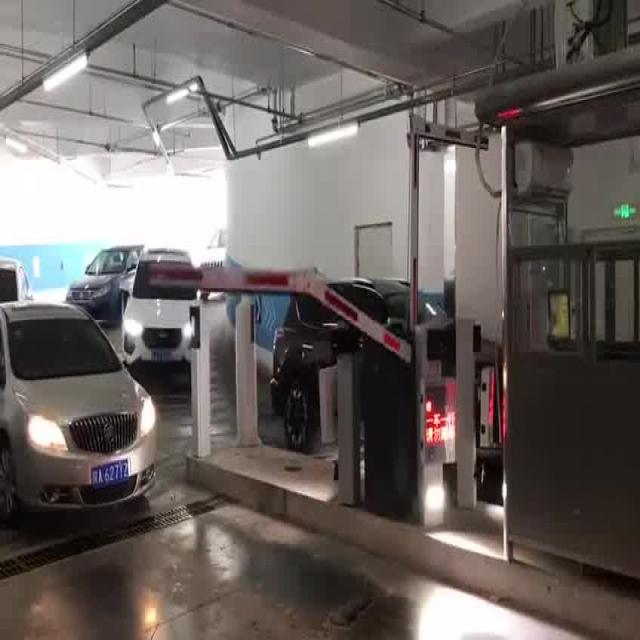CarIn: (278, 256, 456, 447), (1, 296, 152, 516), (120, 233, 211, 372)
GateClosed: (140, 250, 409, 374)
GateOpened: (406, 119, 503, 338)
